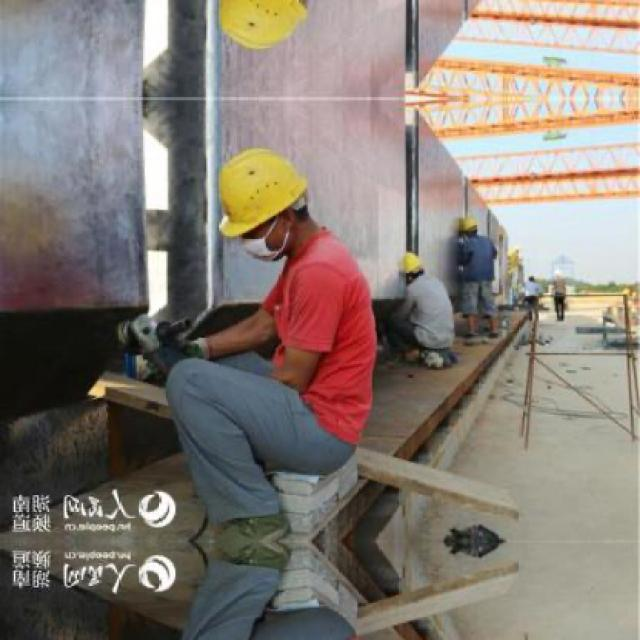helmet: (206, 136, 328, 265), (206, 0, 329, 63), (400, 250, 429, 282), (459, 216, 483, 240)
